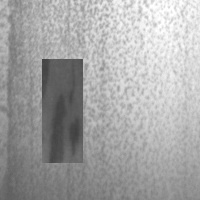inclusion: (42, 59, 83, 163)
pitted_surface: (8, 1, 200, 196)
